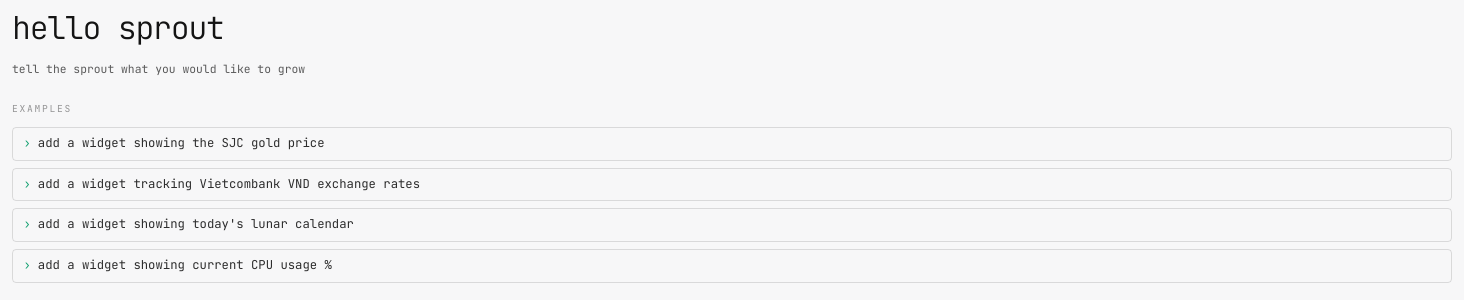
hello-world widget › shows transient copied feedback after a click
Click the button "› add a widget showing current CPU usage %" at (185, 265), box [12, 249, 1452, 283]
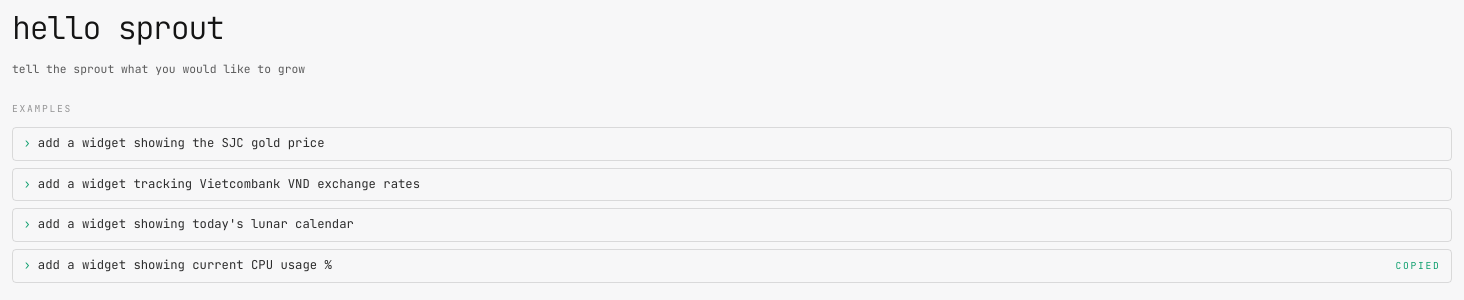
Result: the text "copied" is shown at [1396, 259, 1440, 273]
